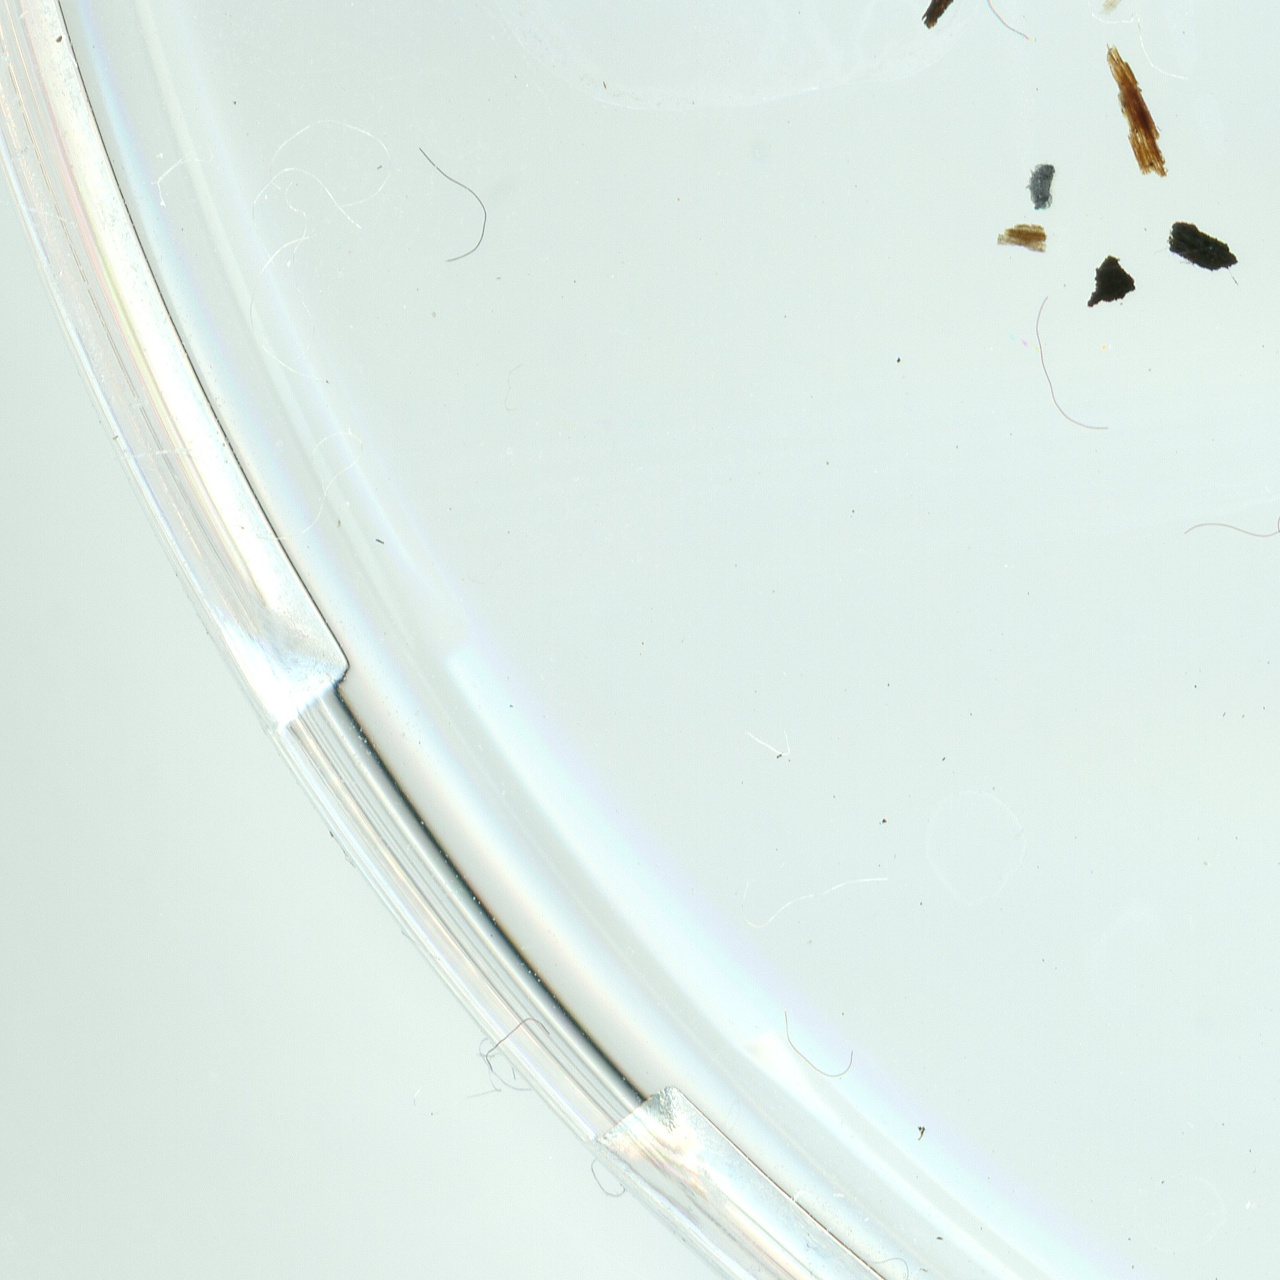arthropod: (1023, 161, 1056, 211)
